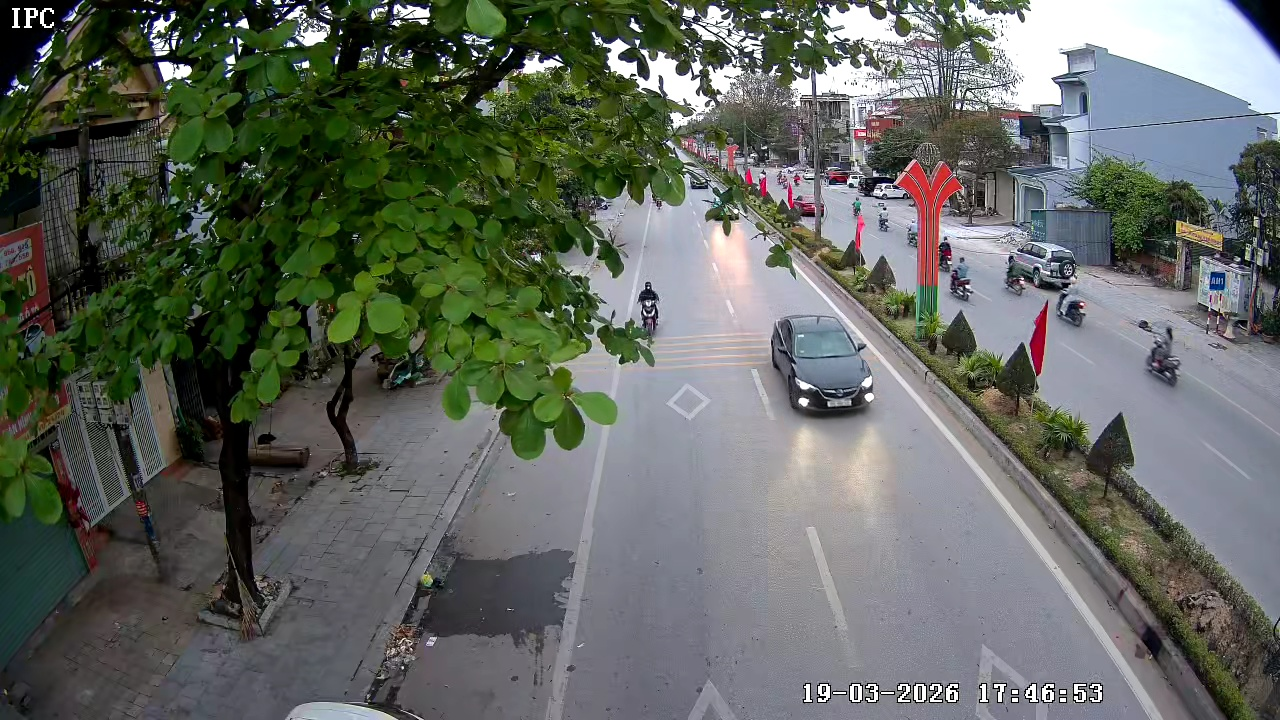car: (769, 311, 874, 414)
motorbike: (1140, 323, 1183, 387), (633, 278, 663, 342), (1056, 277, 1089, 329), (950, 254, 974, 302), (1004, 248, 1027, 294)
